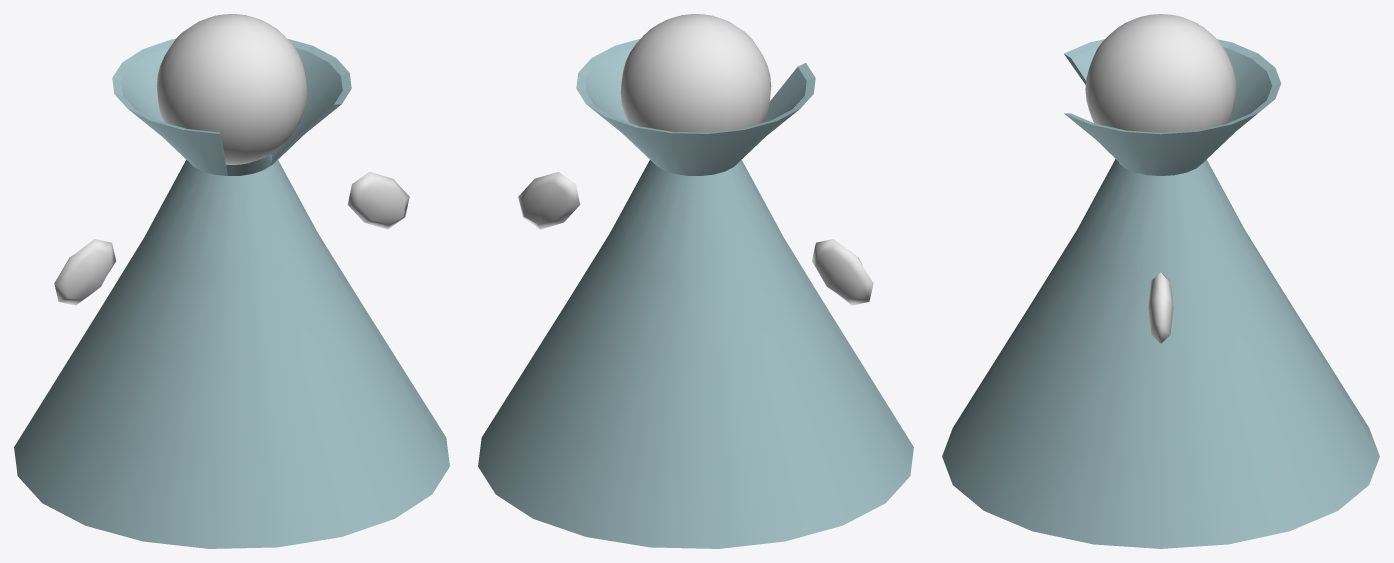
File: Character.fbx
3 renders of one model, left to right at view 1: azimuth 30°, elevation 25°; view 2: azimuth 150°, elevation 25°; view 3: azimuth 270°, elevation 25°, orthographic.
Parts seen in each view (by area): view 1: body, head, hand2, hand1; view 2: body, head, hand2, hand1; view 3: body, head, hand1.
Boxes of the visible parts, x1,y1,x2,y2 form: body: (14, 38, 449, 548); head: (156, 14, 307, 164); hand2: (54, 239, 115, 305); hand1: (347, 172, 409, 229); body: (478, 38, 913, 548); head: (620, 14, 771, 132); hand2: (812, 239, 873, 305); hand1: (518, 172, 580, 229); body: (942, 39, 1379, 548); head: (1085, 14, 1236, 132); hand1: (1148, 272, 1173, 343).
Size of the model in its own units: 15.99 by 17.55 by 15.99.
